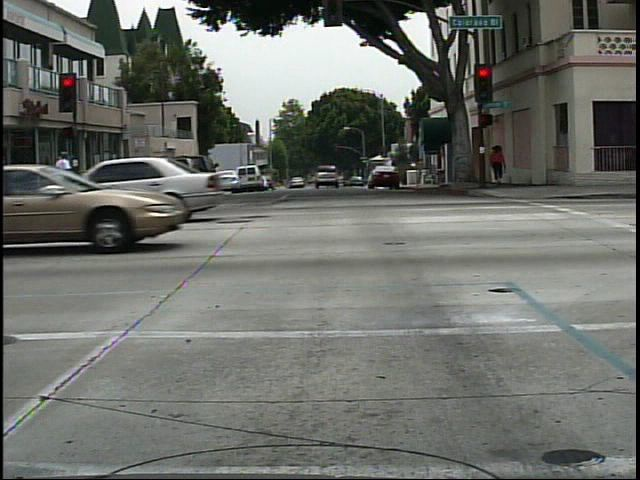person: (48, 143, 76, 180), (488, 140, 507, 187)
